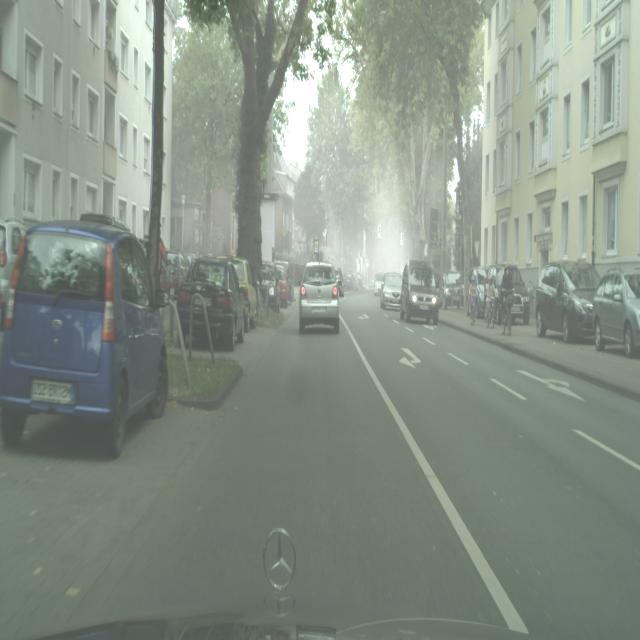bus: (500, 292, 514, 335)
person: (499, 264, 514, 329), (485, 276, 498, 325)
truck: (0, 214, 169, 458), (176, 256, 247, 351), (534, 259, 602, 343), (592, 267, 640, 358), (298, 261, 340, 334), (485, 261, 532, 324), (0, 218, 27, 326), (399, 259, 440, 327), (230, 257, 260, 329), (260, 261, 282, 312), (274, 261, 294, 307), (380, 271, 402, 311), (442, 271, 463, 309), (373, 271, 386, 295)
